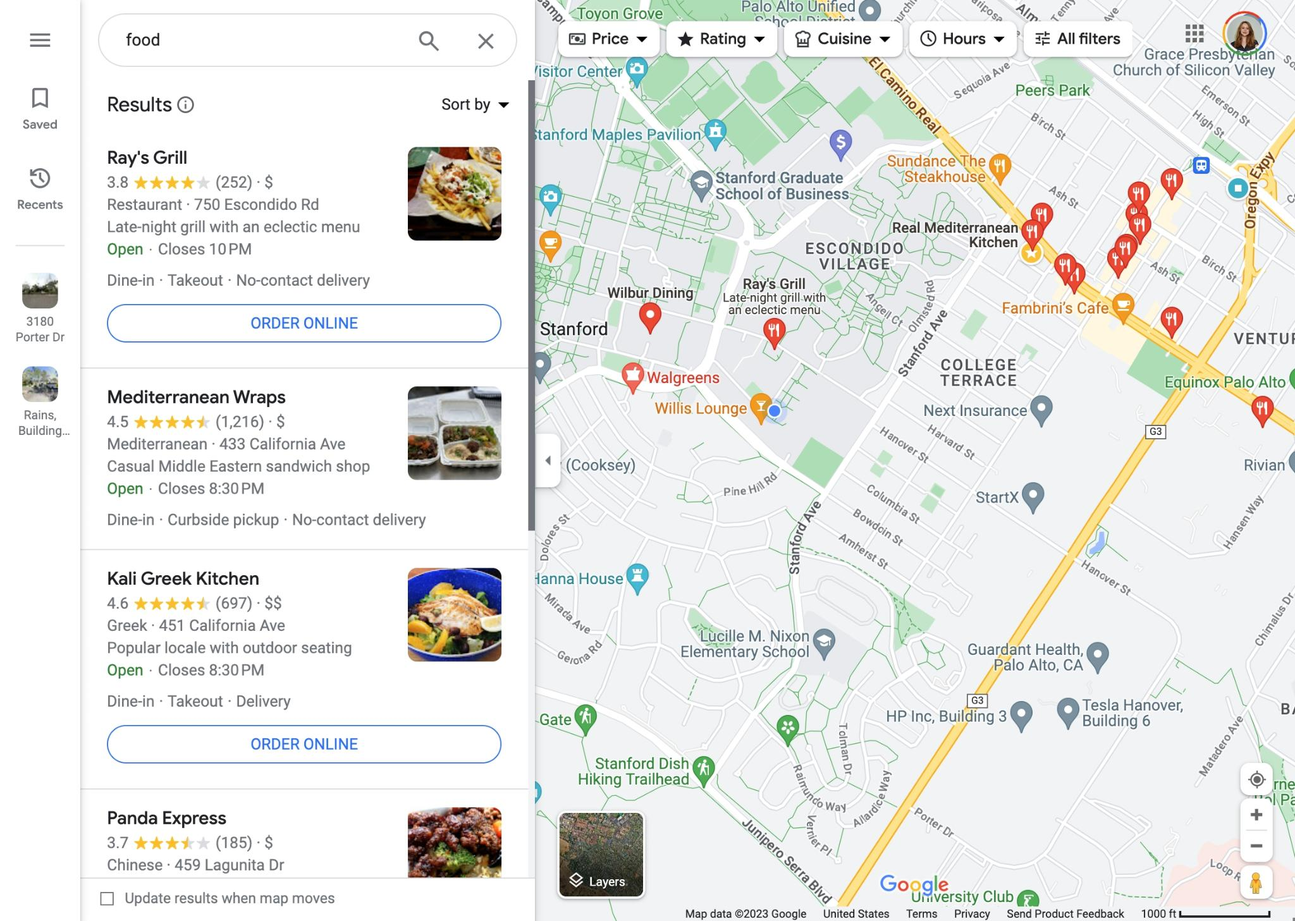webelement: (0, 0, 1294, 920), (79, 79, 534, 876), (79, 128, 527, 366), (79, 549, 527, 787), (79, 368, 527, 548), (0, 0, 79, 920), (79, 789, 527, 921), (541, 14, 1144, 62), (97, 13, 516, 66), (106, 295, 500, 348), (106, 717, 500, 770), (445, 773, 587, 916), (588, 773, 730, 916), (558, 812, 642, 896), (125, 26, 396, 52), (0, 263, 79, 347), (0, 357, 79, 441), (100, 884, 334, 912), (685, 906, 1140, 920), (783, 14, 901, 62), (665, 14, 776, 62), (1023, 14, 1133, 62), (909, 14, 1016, 62), (106, 457, 368, 476), (0, 75, 79, 137), (0, 155, 79, 217), (557, 14, 658, 62), (427, 79, 520, 128), (106, 218, 359, 236), (106, 639, 351, 657), (106, 878, 322, 897), (79, 260, 527, 269), (79, 499, 527, 508), (79, 681, 527, 690), (106, 410, 263, 432), (106, 170, 252, 192), (106, 592, 252, 614), (106, 831, 252, 853), (0, 17, 79, 57), (455, 14, 515, 65), (402, 13, 455, 66), (291, 510, 425, 529), (236, 271, 369, 289), (143, 479, 264, 498), (218, 435, 344, 453), (158, 617, 284, 635), (193, 195, 318, 213), (79, 291, 527, 296), (79, 712, 527, 717), (143, 661, 264, 679), (166, 510, 278, 529), (877, 870, 950, 899), (174, 856, 283, 875), (162, 82, 206, 126), (143, 240, 250, 258), (143, 900, 243, 919), (106, 435, 206, 453), (1140, 907, 1270, 920), (1006, 906, 1123, 920), (684, 907, 806, 920), (1057, 27, 1120, 49), (106, 195, 181, 213), (534, 434, 559, 487), (21, 365, 57, 401), (21, 272, 57, 307), (817, 27, 870, 49), (1177, 16, 1210, 49), (1227, 16, 1260, 49), (440, 93, 489, 115), (1239, 797, 1271, 830), (1239, 865, 1271, 898), (106, 856, 161, 875), (699, 27, 746, 49), (1239, 762, 1271, 794), (1239, 829, 1271, 861), (166, 271, 222, 289), (166, 692, 222, 710), (235, 692, 290, 710), (942, 27, 985, 49), (823, 906, 888, 920), (106, 510, 153, 529), (106, 271, 153, 289), (106, 692, 153, 710), (591, 27, 627, 49), (106, 617, 146, 635), (106, 479, 143, 498), (106, 900, 143, 919), (106, 240, 143, 258), (106, 661, 143, 679), (535, 448, 559, 472), (953, 906, 988, 920), (589, 874, 624, 887), (1140, 907, 1175, 920), (905, 906, 936, 920), (566, 28, 586, 48), (674, 28, 694, 48), (917, 28, 937, 48), (1032, 28, 1052, 48), (565, 870, 585, 890), (793, 28, 812, 48), (174, 94, 194, 113), (263, 412, 283, 431), (252, 833, 272, 852), (252, 173, 272, 191), (263, 594, 281, 612), (275, 412, 284, 431), (263, 833, 272, 852), (263, 173, 272, 191)
